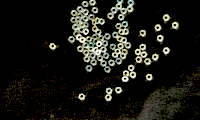nut: (144, 58, 152, 65), (115, 87, 123, 94), (68, 36, 76, 43), (172, 22, 179, 29), (163, 14, 170, 21), (163, 47, 170, 54), (152, 54, 159, 61), (146, 74, 153, 81), (140, 44, 147, 51), (140, 30, 147, 37), (135, 49, 142, 56), (136, 56, 143, 63), (128, 65, 135, 72), (130, 72, 137, 79), (123, 70, 130, 77), (122, 76, 129, 83), (106, 88, 113, 95), (118, 14, 125, 21), (122, 21, 129, 28), (116, 3, 123, 10), (116, 23, 123, 30), (119, 29, 126, 36), (125, 42, 132, 49), (117, 36, 124, 43), (112, 32, 119, 39), (118, 43, 125, 50), (120, 53, 127, 60), (116, 58, 123, 65), (115, 48, 122, 55), (110, 44, 117, 51), (104, 66, 111, 73), (104, 33, 111, 40), (102, 40, 109, 47), (97, 55, 104, 62), (92, 7, 99, 14), (95, 49, 102, 56), (86, 65, 93, 72), (84, 56, 91, 63), (79, 37, 86, 44), (76, 34, 83, 41), (83, 28, 90, 35), (77, 6, 84, 13), (75, 16, 82, 23), (71, 10, 78, 17), (50, 43, 57, 50), (109, 59, 115, 67), (95, 17, 101, 25), (89, 13, 95, 21), (155, 25, 162, 31), (158, 35, 164, 42), (141, 52, 148, 58), (105, 95, 112, 101), (79, 94, 85, 101), (128, 0, 135, 6), (127, 6, 134, 12), (121, 8, 127, 15), (124, 28, 130, 35), (111, 7, 118, 13), (108, 12, 114, 19), (122, 37, 128, 44), (122, 49, 129, 55), (112, 52, 119, 58), (100, 47, 107, 53), (103, 53, 110, 59), (101, 60, 107, 67), (98, 35, 105, 41), (89, 0, 96, 6), (92, 26, 99, 32), (96, 41, 102, 48), (92, 34, 98, 41), (91, 59, 97, 66), (88, 42, 95, 48), (88, 46, 95, 52), (83, 50, 90, 56), (86, 36, 92, 43), (77, 46, 84, 52), (83, 15, 89, 22), (83, 9, 89, 16), (82, 1, 89, 7), (80, 21, 86, 28), (73, 31, 80, 37), (73, 23, 79, 30), (96, 29, 102, 35), (93, 47, 99, 53), (93, 39, 99, 45), (90, 53, 96, 59), (83, 43, 89, 49), (83, 22, 89, 28), (79, 27, 85, 33), (77, 20, 83, 26), (77, 13, 83, 19), (71, 17, 77, 23), (100, 18, 105, 25), (92, 19, 97, 26), (117, 0, 124, 4)
